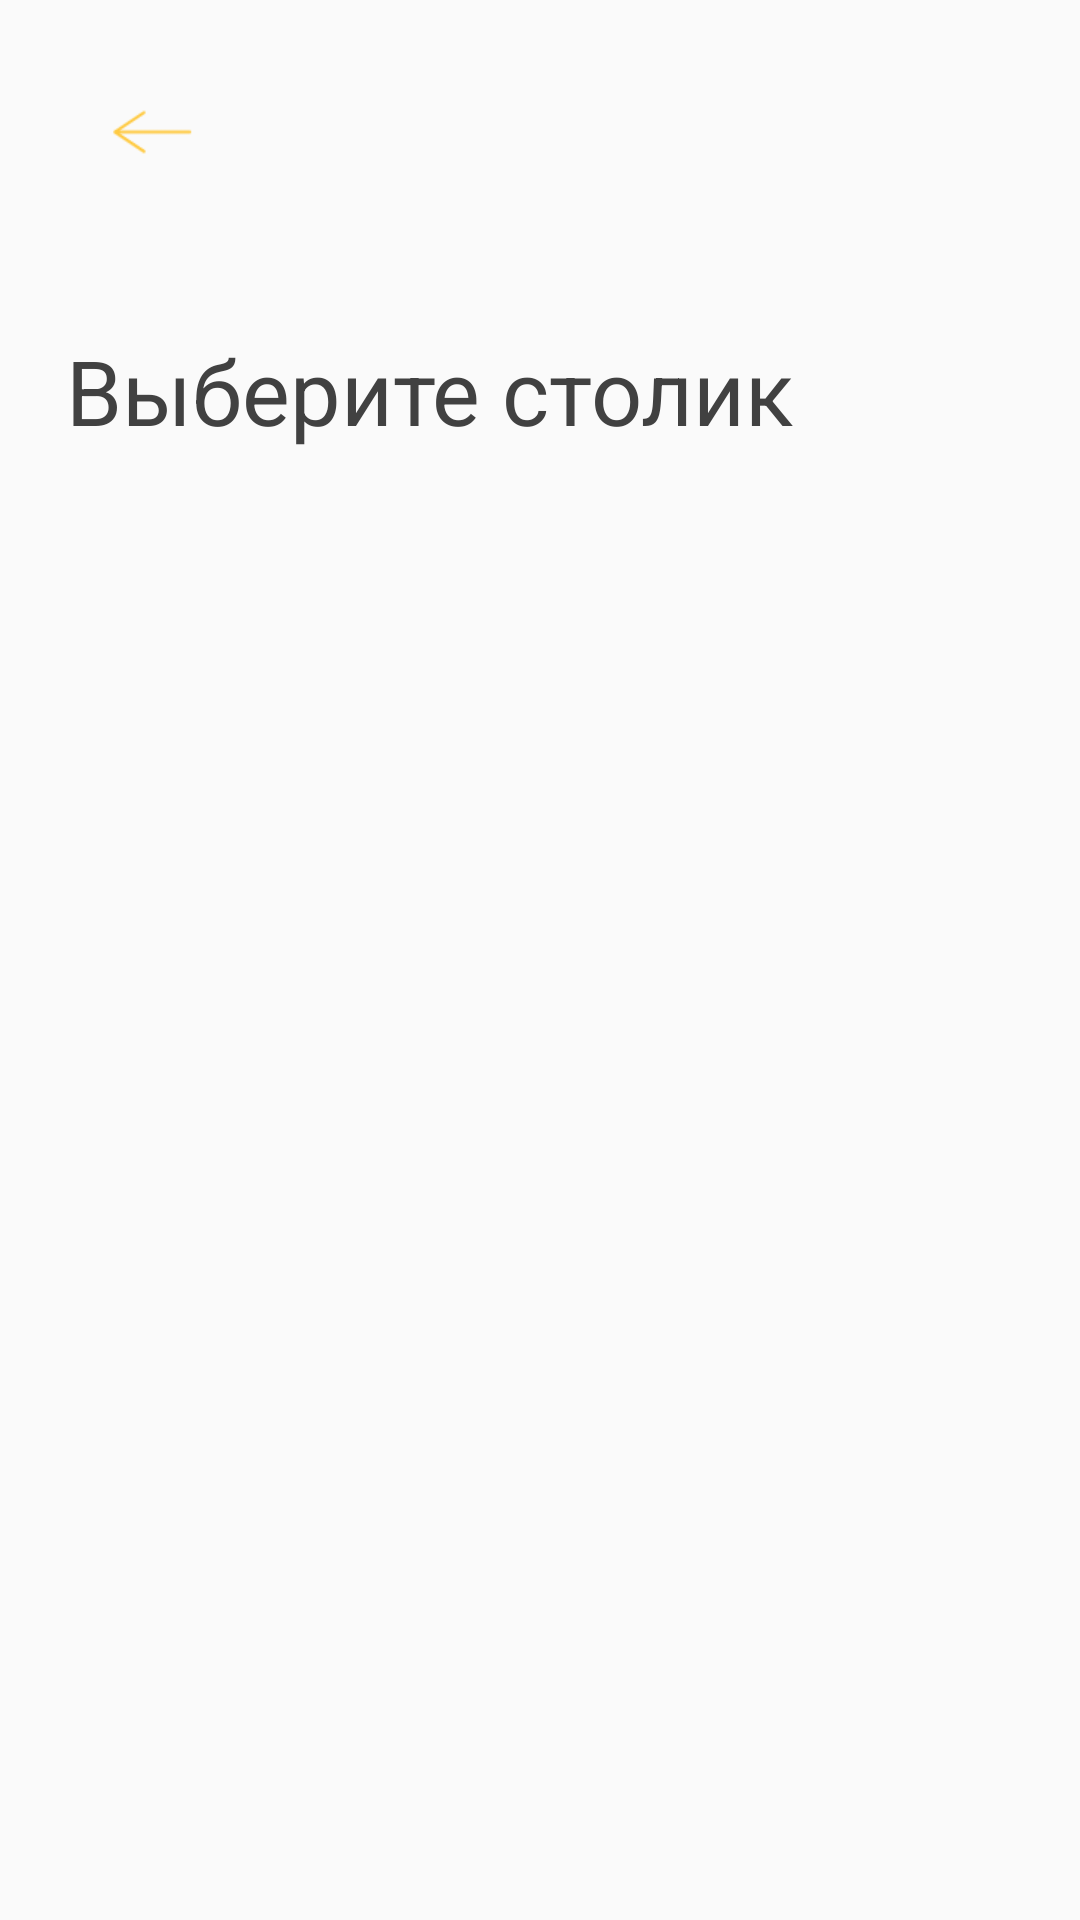

Where icons sit on this 1080 x 1920 app screen, as (x1, y1, x2, y2):
arrow: (113, 110, 192, 154)
